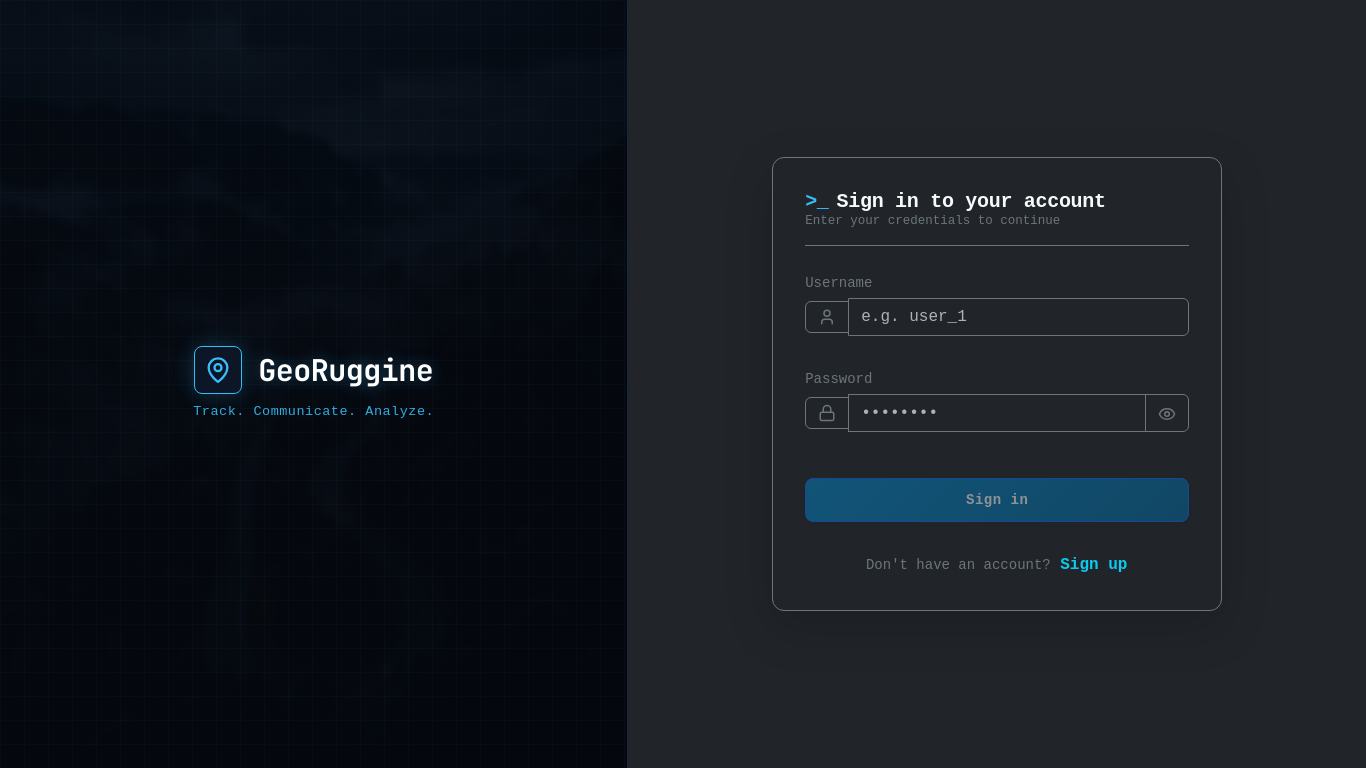
App authentication flow › navigates between login and registration
Click the button "Sign up".
click(1094, 565)  # box left=1059, top=552, right=1128, bottom=578
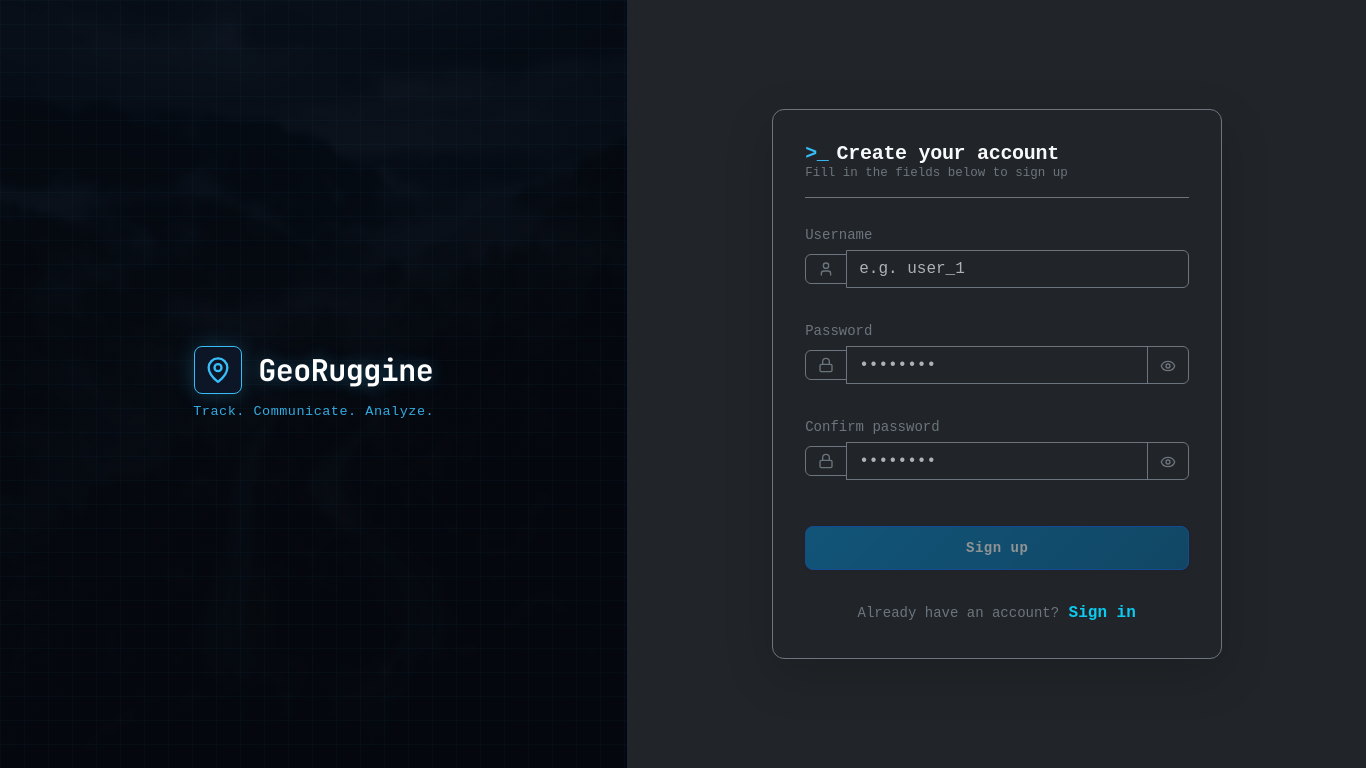
Expected: the heading "Create your account" is shown, left=837, top=142, right=1059, bottom=165
Click the button "Sign in".
click(1102, 613)  # box left=1068, top=600, right=1137, bottom=626
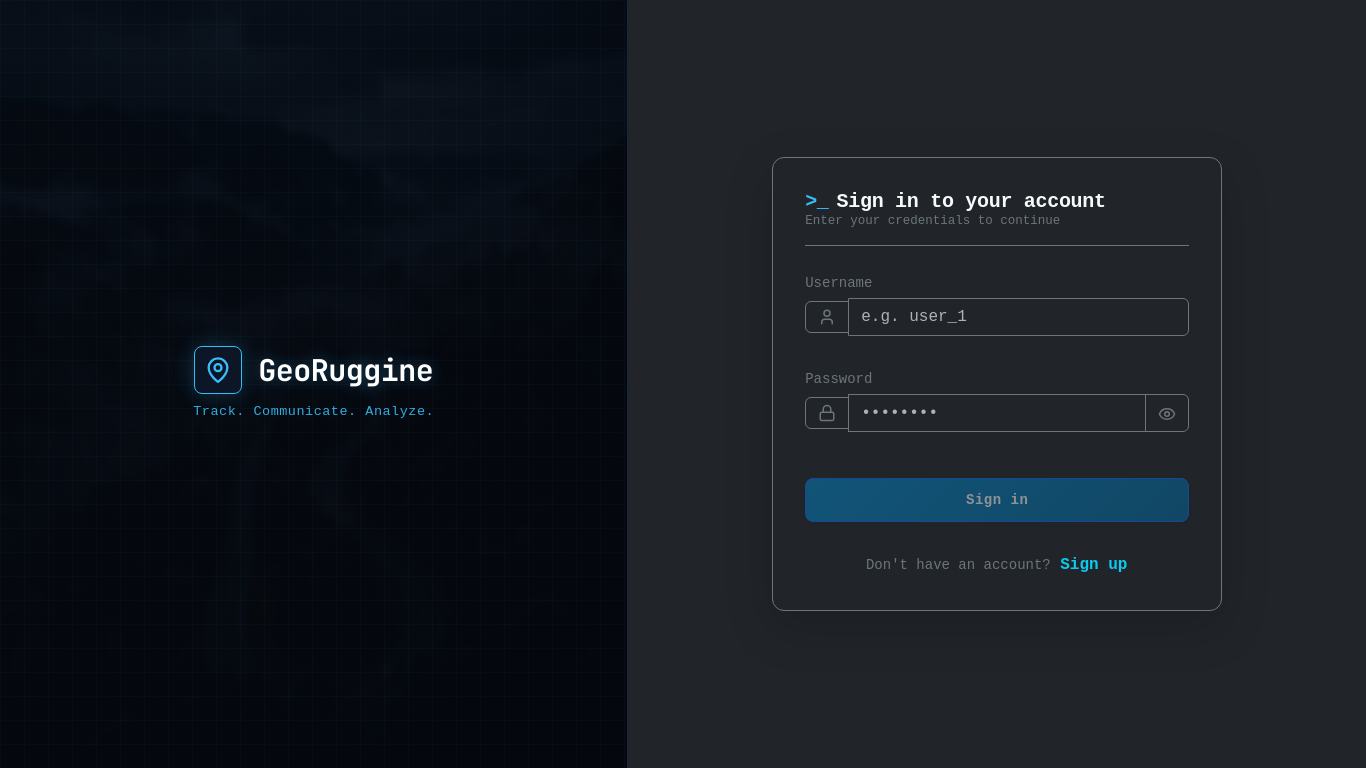
Expected: the heading "Sign in to your account" is shown, left=837, top=190, right=1106, bottom=213
